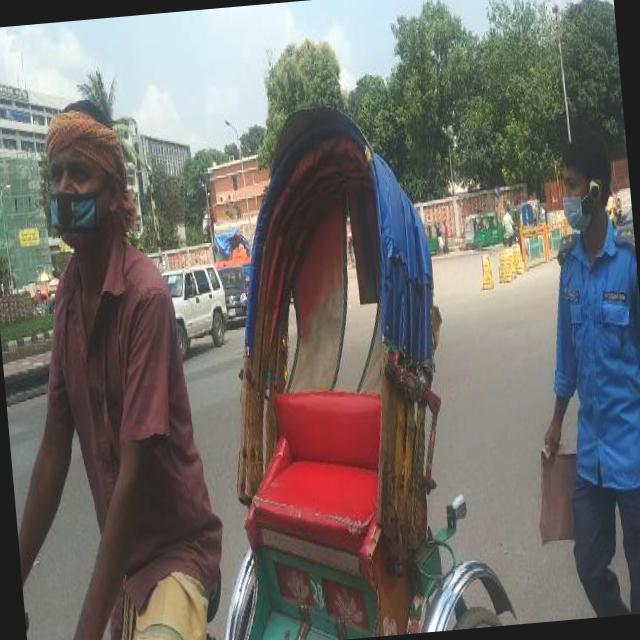car: (166, 262, 228, 352)
motorcycle: (232, 103, 455, 640), (471, 209, 506, 250), (524, 194, 545, 228), (422, 219, 442, 250), (516, 200, 534, 229)
truck: (220, 264, 249, 324)
